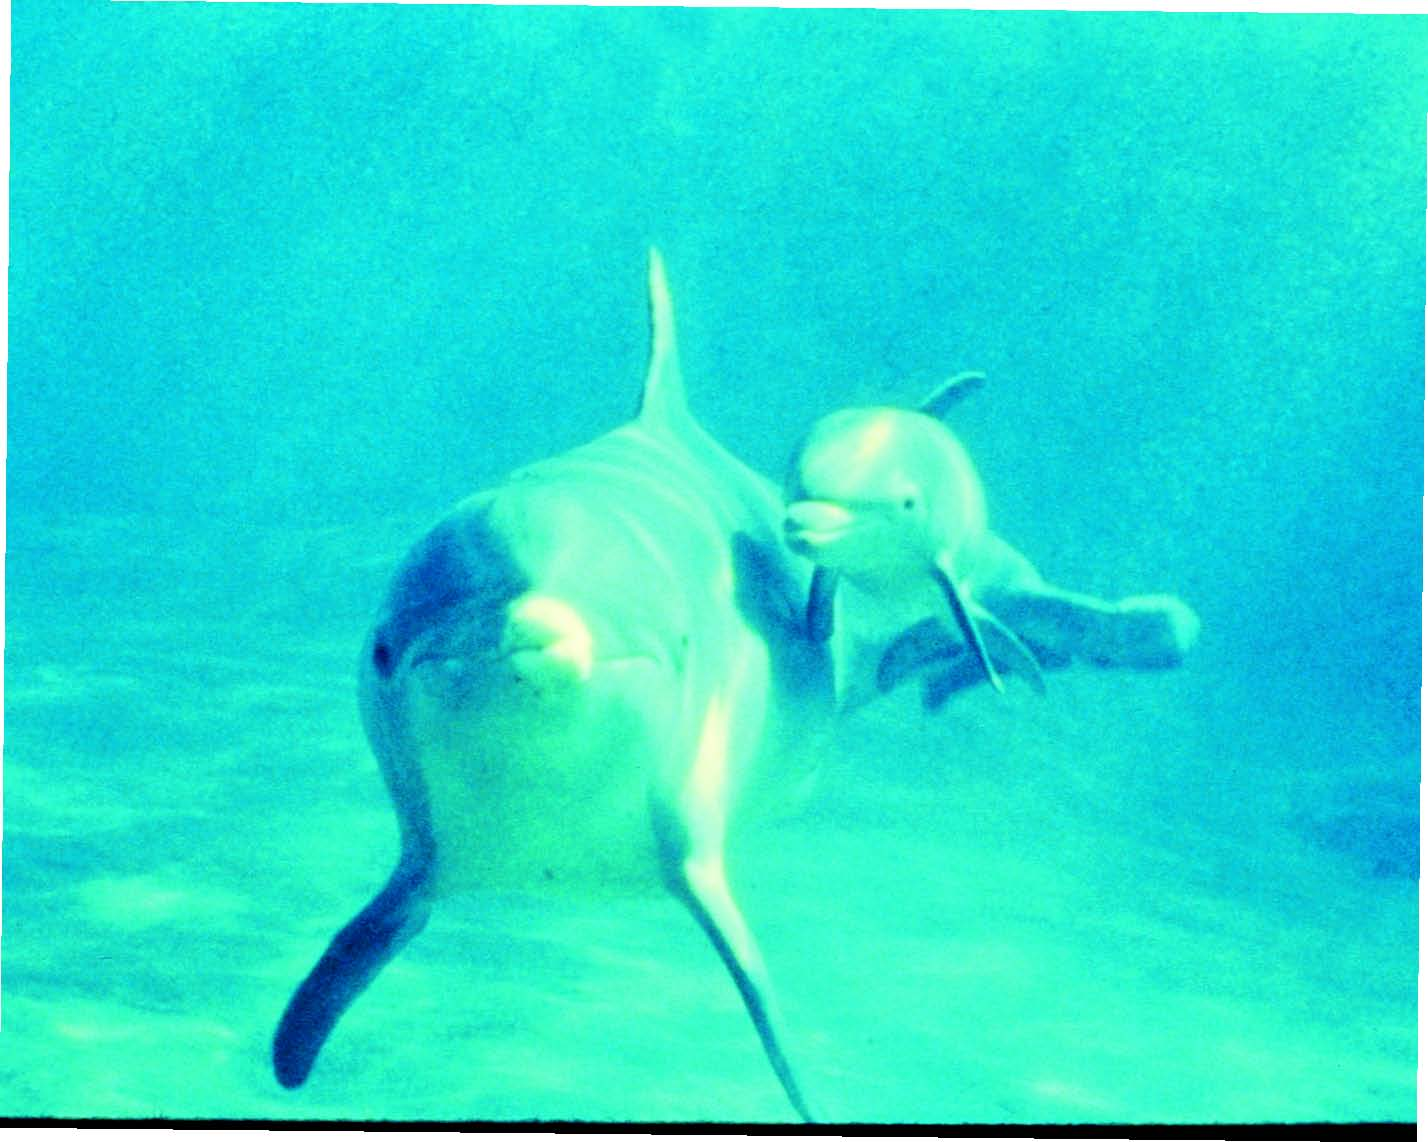dolphin: (264, 258, 982, 1087), (766, 385, 1072, 670)
